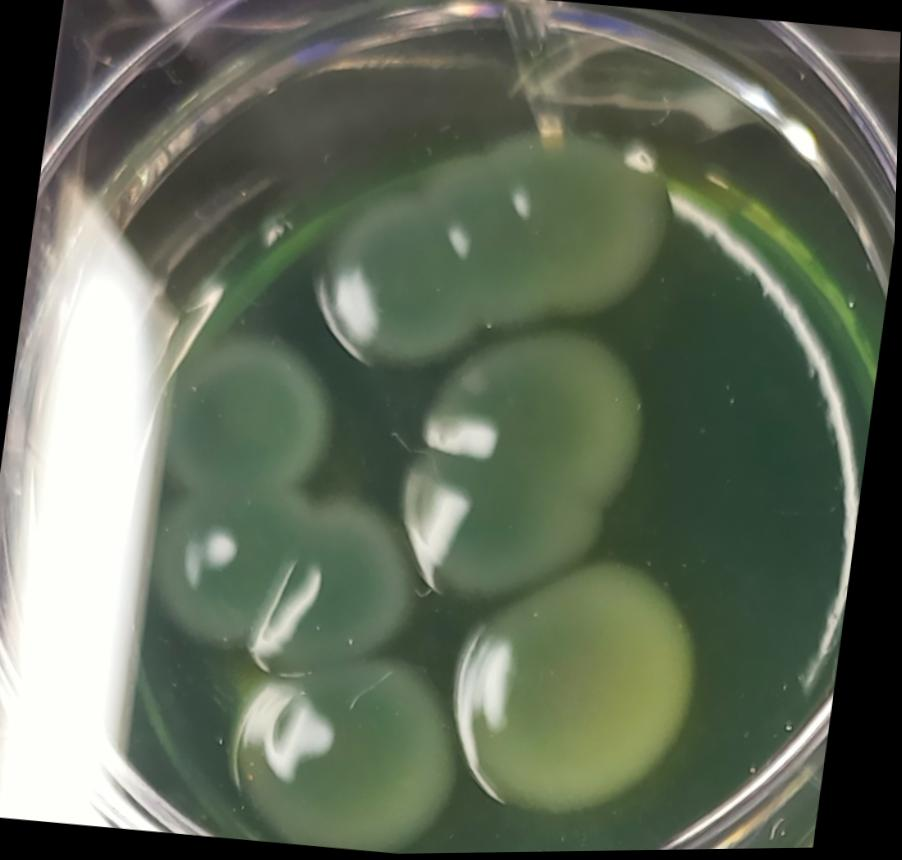valgino: (289, 94, 694, 399), (389, 302, 676, 631), (435, 534, 722, 836), (137, 464, 435, 678), (229, 653, 485, 857), (156, 324, 352, 508)
